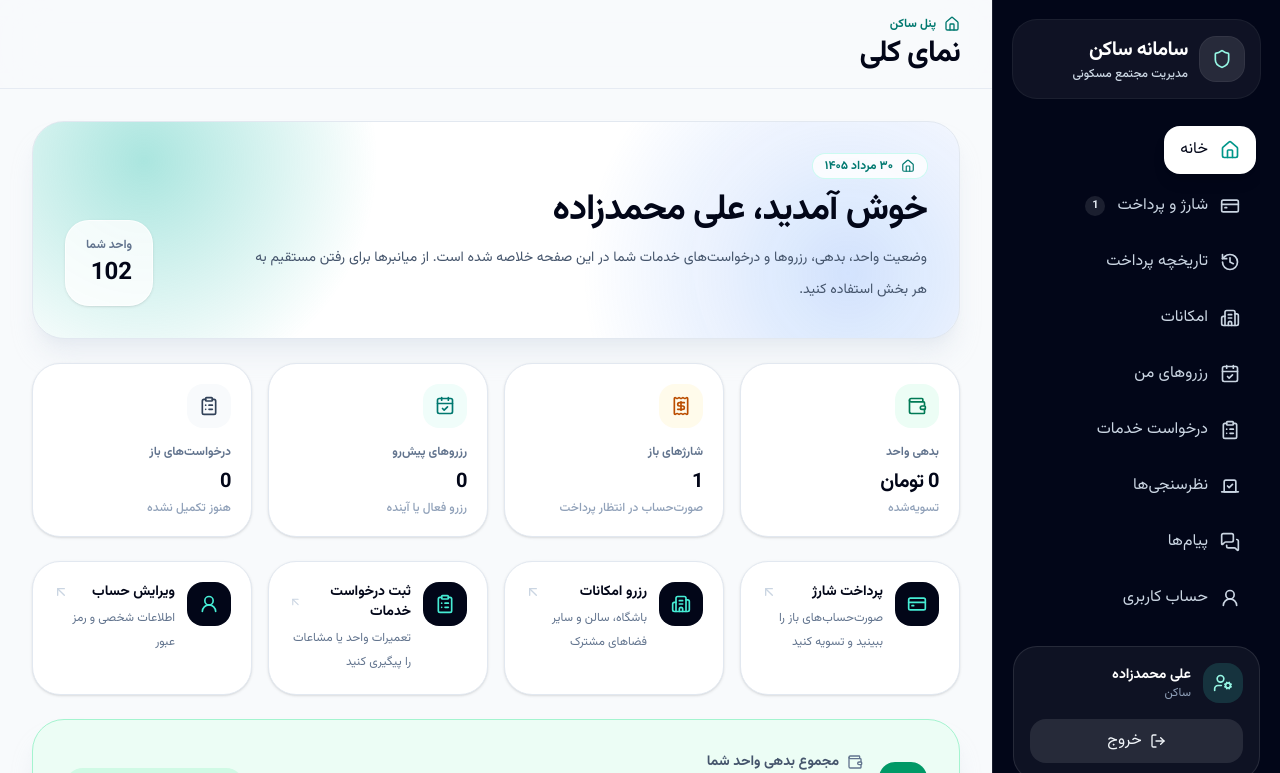
Test: ResidentDashboardPage › keeps the charges on screen and surfaces the error when payment fails
The width and height of the screenshot is (1280, 773).
Step 1. Click the button "شارژ و پرداخت 1" → [1163, 206], box [1069,182,1256,230]
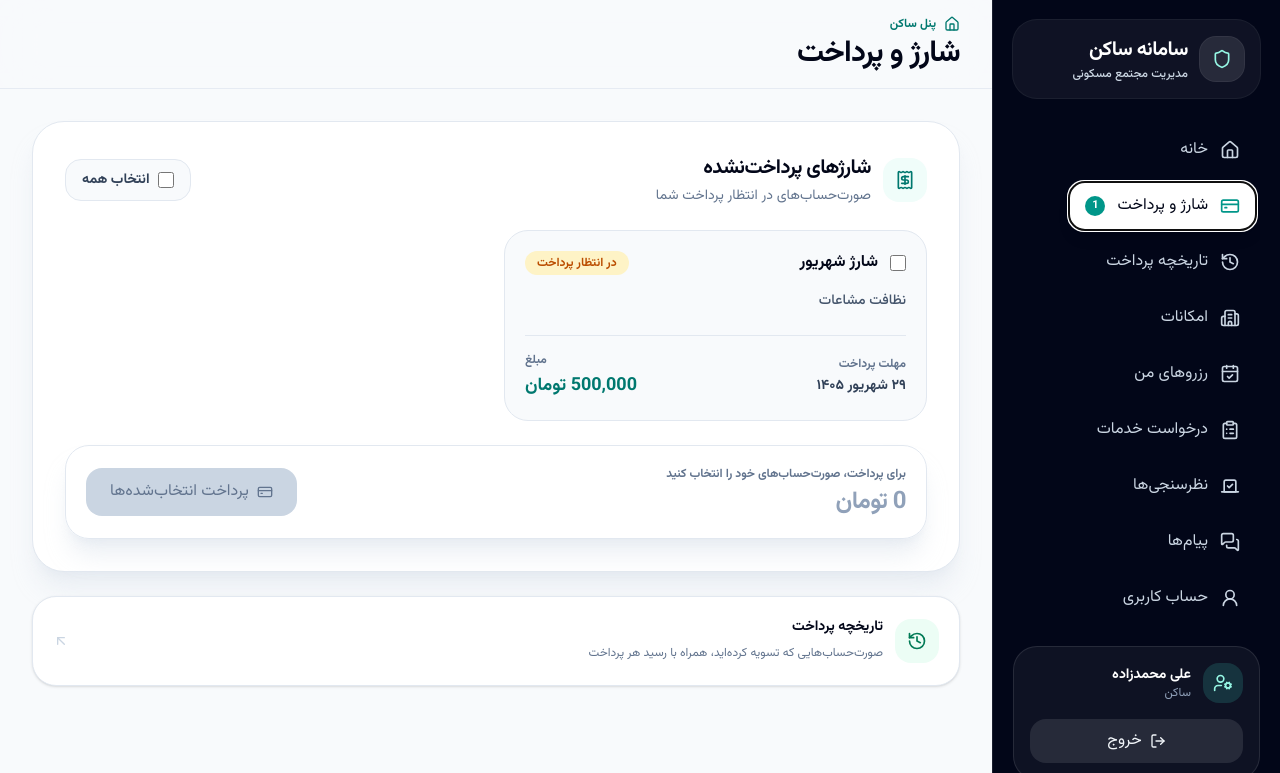
Expected: the heading "شارژ شهریور" is shown, [799,251,878,275]
Step 2. Click the checkbox named "انتخاب شارژ شهریور" → [898, 263], box [890,255,906,271]
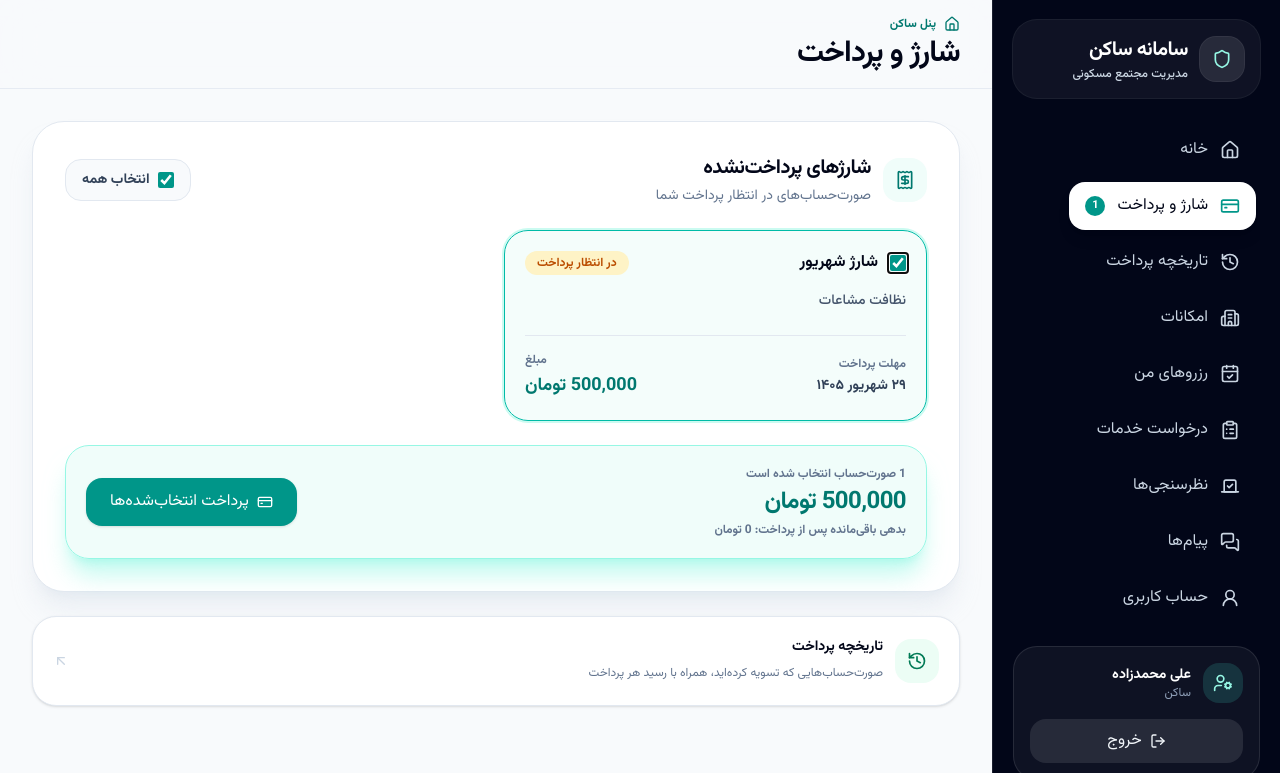
Step 3. Click the button "پرداخت انتخاب‌شده‌ها" → [191, 502], box [86,478,297,526]
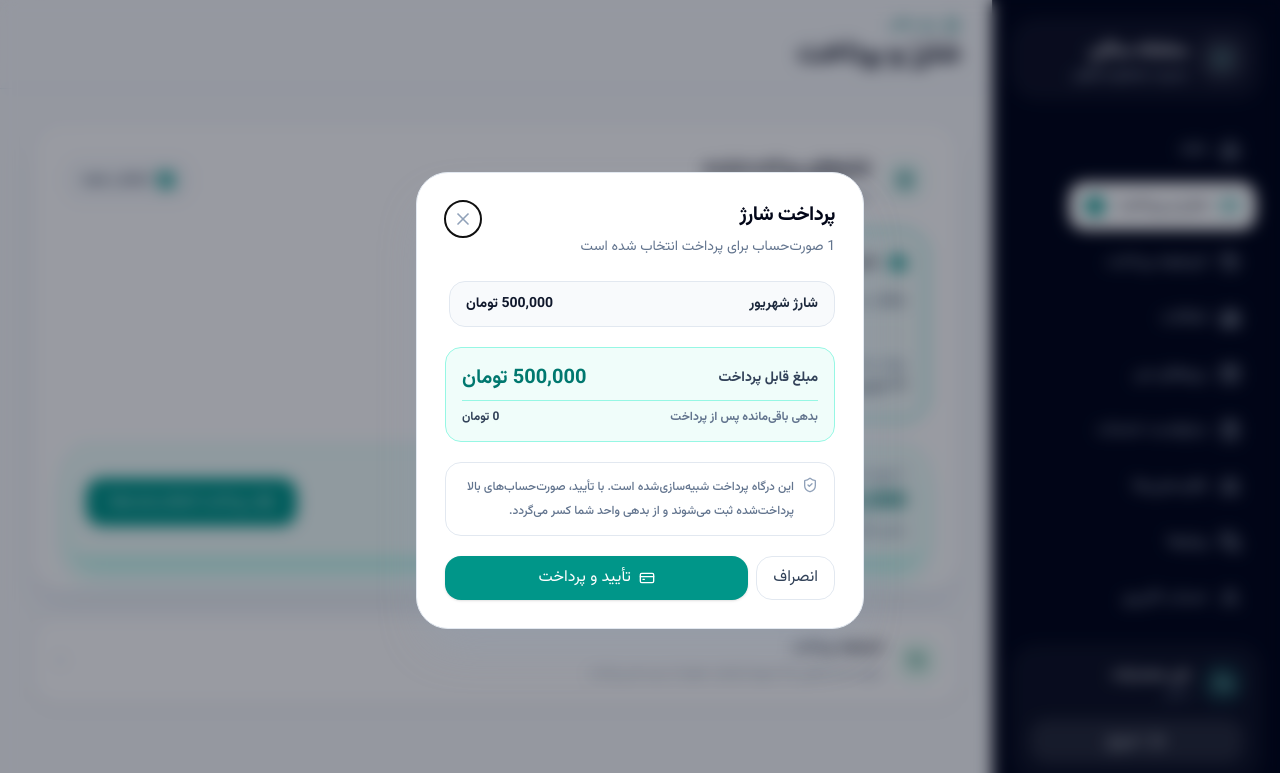
Step 4. Click the button "تأیید و پرداخت" → [597, 578], box [445,556,748,600]
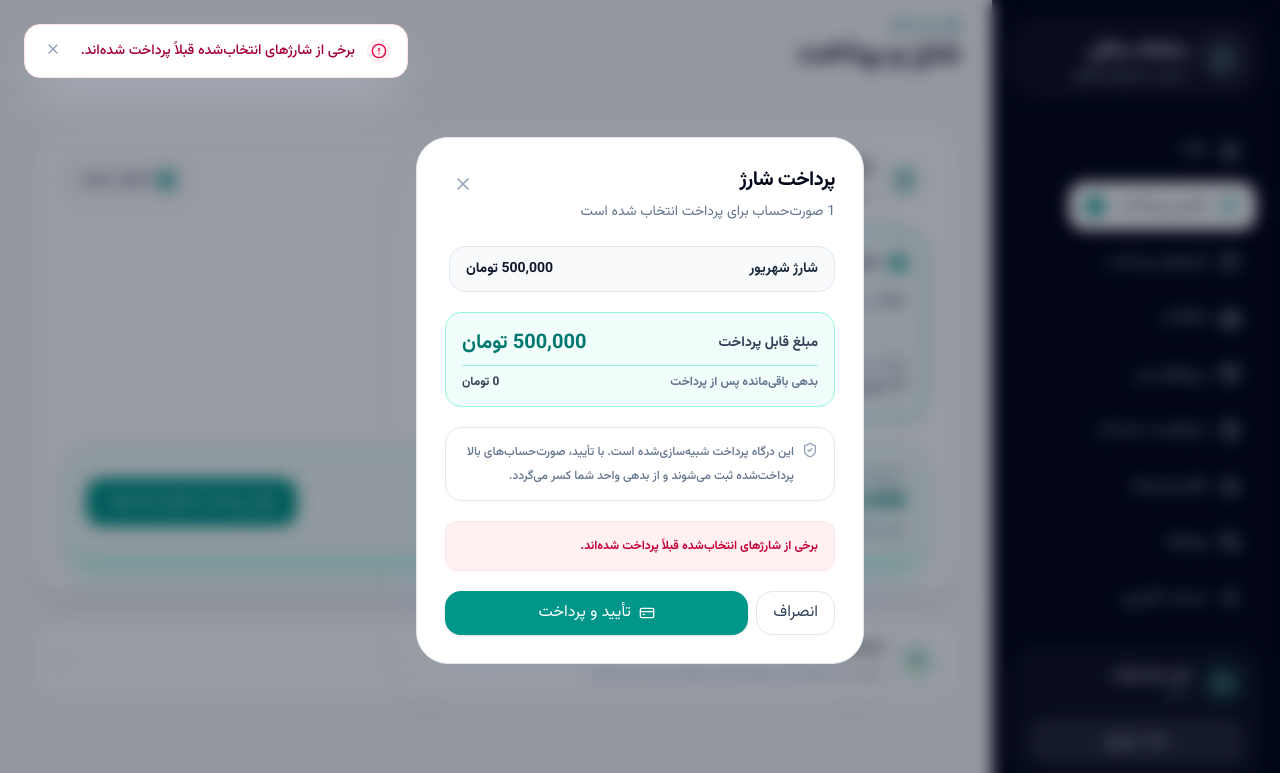
Expected: the heading "شارژ شهریور" is shown, [799,251,878,275]
Expected: the message reads "برخی از شارژهای انتخاب‌شده قبلاً پرداخت شده‌اند.", [580,536,818,554]
